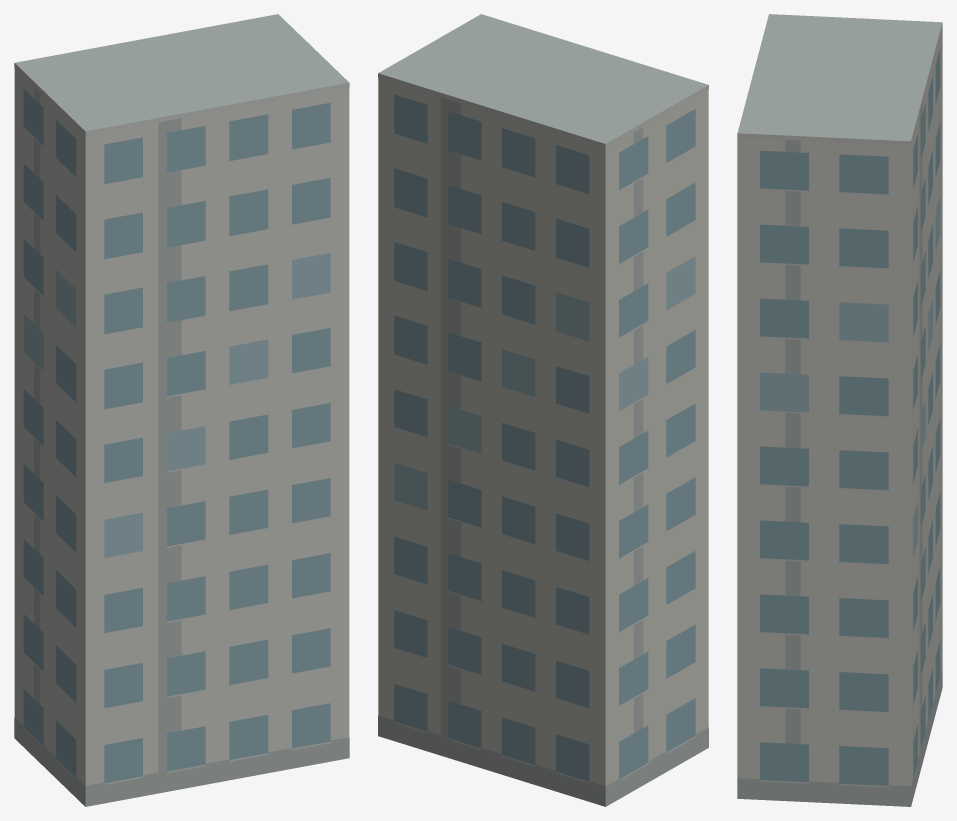
The model's file is residential-effef1f8-8d5e-48ef-9e62-e1b403bb5e61.glb.
3 renders of one model, left to right at view 1: azimuth 30°, elevation 25°; view 2: azimuth 150°, elevation 25°; view 3: azimuth 270°, elevation 25°, orthographic.
Parts seen in each view (by area): view 1: residential-effef1f8-8d5e-48ef-9e62-e1b403bb5e61.tmp; view 2: residential-effef1f8-8d5e-48ef-9e62-e1b403bb5e61.tmp; view 3: residential-effef1f8-8d5e-48ef-9e62-e1b403bb5e61.tmp.
Part boxes in pixels (x1,y1,x2,y2): residential-effef1f8-8d5e-48ef-9e62-e1b403bb5e61.tmp: (14, 14, 349, 806); residential-effef1f8-8d5e-48ef-9e62-e1b403bb5e61.tmp: (378, 14, 708, 806); residential-effef1f8-8d5e-48ef-9e62-e1b403bb5e61.tmp: (737, 14, 942, 806).
Size of the model in its own units: 14.37 by 35 by 9.79.
